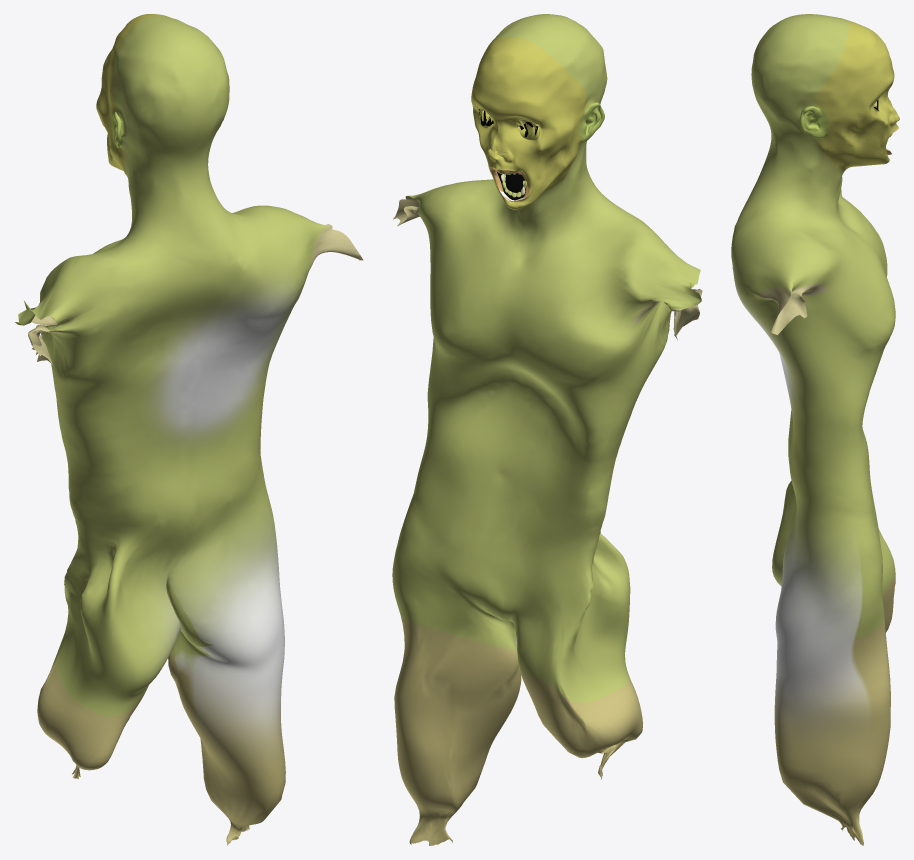
Rendered from zambie.glb.
3 views of the same model, side by side, from view 1: azimuth 30°, elevation 25°; view 2: azimuth 150°, elevation 25°; view 3: azimuth 270°, elevation 25° (orthographic). The views are drawn at different scales.
Visible parts, largest first — view 1: Genesis8Male; view 2: Genesis8Male; view 3: Genesis8Male.
Part boxes in pixels (left/top/right/bottom): Genesis8Male: left=15, top=14, right=363, bottom=845; Genesis8Male: left=392, top=14, right=702, bottom=845; Genesis8Male: left=731, top=14, right=899, bottom=845.
Size of the model in its own units: 1.04 by 2.56 by 0.5015.
13 materials, 13 textured.
